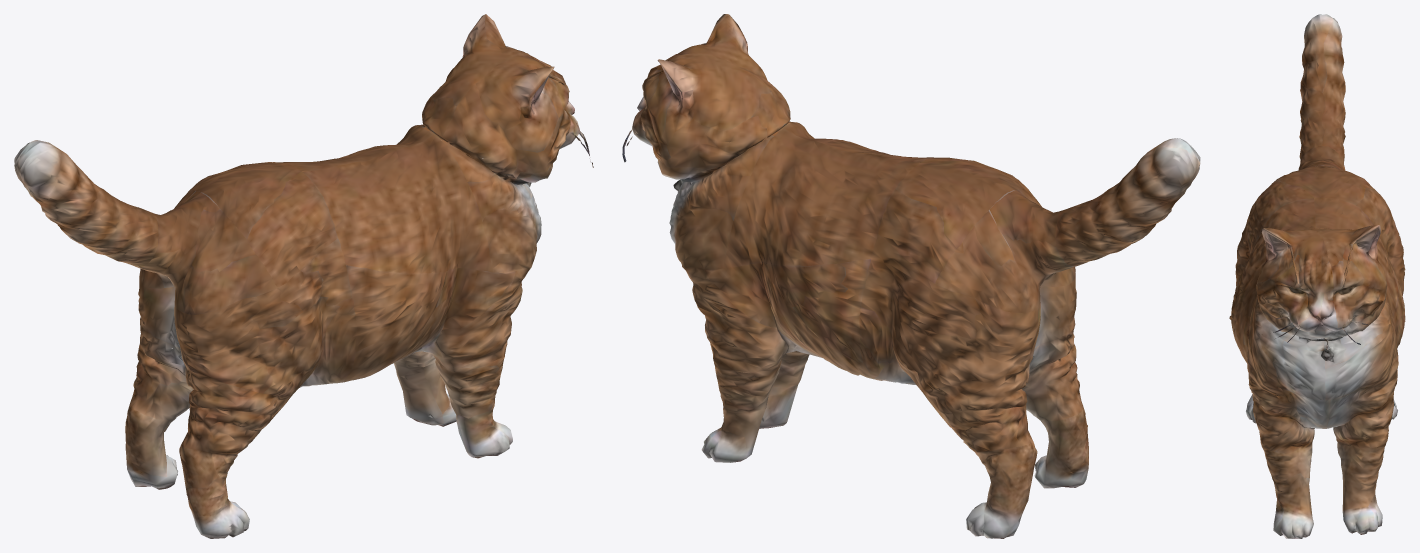
The model's file is GATEKITTY.glb.
3 views of the same model, side by side, from view 1: azimuth 30°, elevation 25°; view 2: azimuth 150°, elevation 25°; view 3: azimuth 270°, elevation 25° (orthographic). The views are drawn at different scales.
Visible parts, largest first — view 1: tripo_node_6e343410-6962-4d59-9a36-f67c534abf38; view 2: tripo_node_6e343410-6962-4d59-9a36-f67c534abf38; view 3: tripo_node_6e343410-6962-4d59-9a36-f67c534abf38.
Boxes of the visible parts, left/top/right/bottom form: tripo_node_6e343410-6962-4d59-9a36-f67c534abf38: left=14, top=14, right=593, bottom=538; tripo_node_6e343410-6962-4d59-9a36-f67c534abf38: left=622, top=14, right=1200, bottom=538; tripo_node_6e343410-6962-4d59-9a36-f67c534abf38: left=1229, top=14, right=1405, bottom=538.
Size of the model in its own units: 1.44 by 0.9986 by 0.4677.
1 material, 1 textured.
